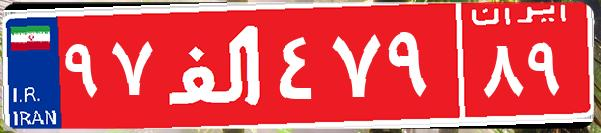4: (273, 28, 330, 110)
7: (330, 28, 385, 110), (110, 28, 158, 105)
8: (475, 38, 525, 113)
9: (385, 28, 445, 110), (57, 26, 110, 107), (525, 38, 570, 115)
الف: (158, 15, 273, 115)
